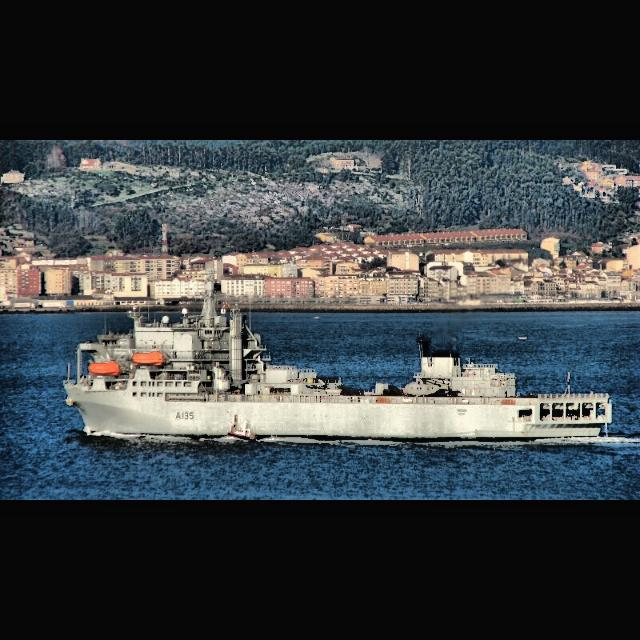combat_vessel: (62, 288, 614, 444)
